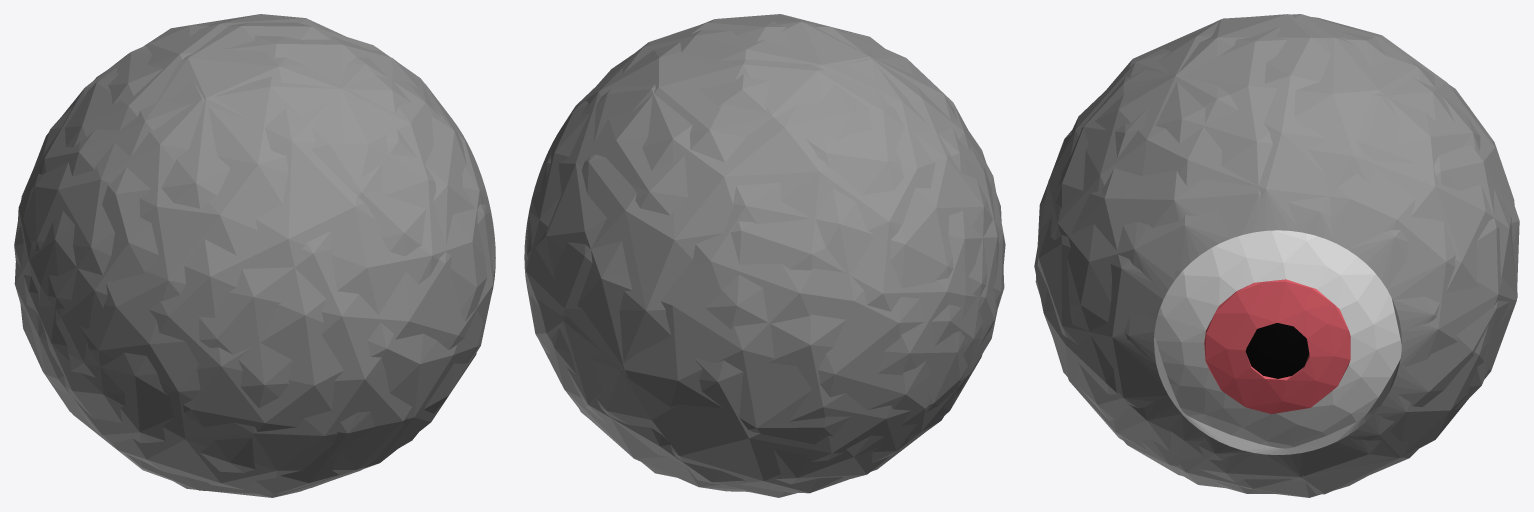
The model's file is AttackDrone.fbx.
3 renders of one model, left to right at view 1: azimuth 30°, elevation 25°; view 2: azimuth 150°, elevation 25°; view 3: azimuth 270°, elevation 25°, orthographic.
Visible parts, largest first — view 1: Case; view 2: Case; view 3: Case, EyeBall.
Part boxes in pixels (x1,y1,x2,y2): Case: (14,14,495,497); Case: (524,14,1005,497); Case: (1034,14,1519,497); EyeBall: (1154,230,1401,448).
Size of the model in its own units: 195 by 201 by 201.
